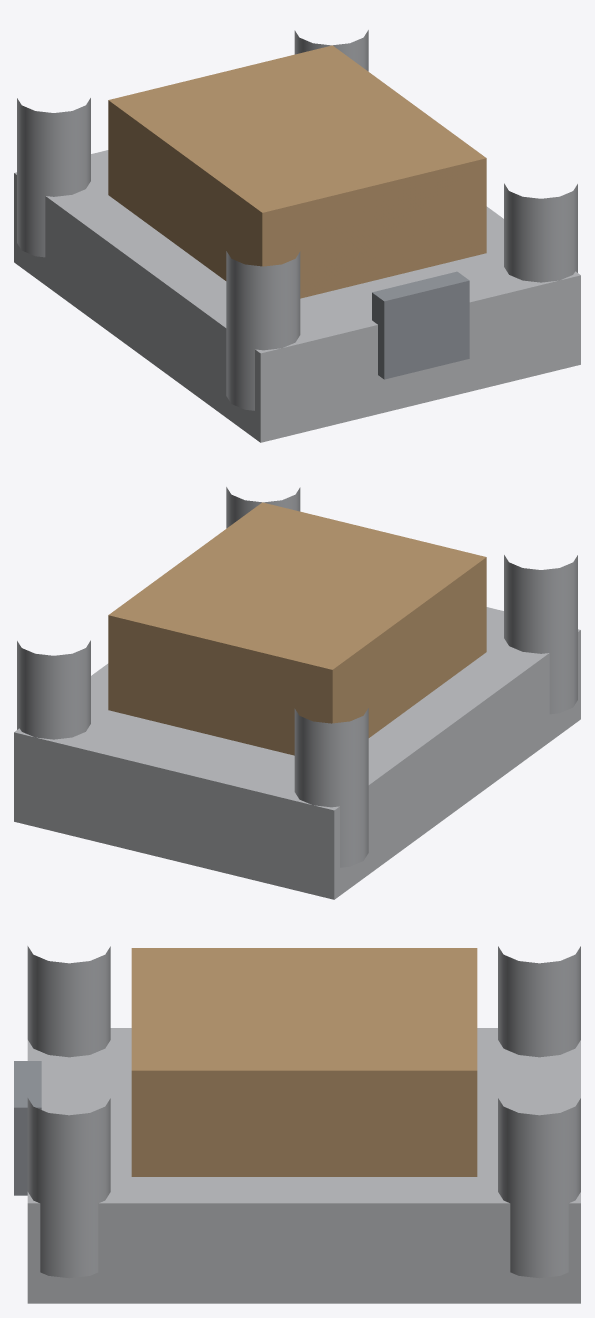
File: player_castle.glb
3 views of the same model, one above another, from view 1: azimuth 30°, elevation 25°; view 2: azimuth 150°, elevation 25°; view 3: azimuth 270°, elevation 25° (orthographic). The views are drawn at different scales.
Parts seen in each view (by area): view 1: player_castle_root; view 2: player_castle_root; view 3: player_castle_root.
Part boxes in pixels (bbox=[...]): player_castle_root: bbox=[14, 30, 580, 442]; player_castle_root: bbox=[14, 487, 580, 899]; player_castle_root: bbox=[14, 946, 580, 1303].
Size of the model in its own units: 64 by 33 by 82.
